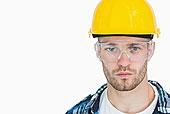helmet: (87, 0, 162, 42)
